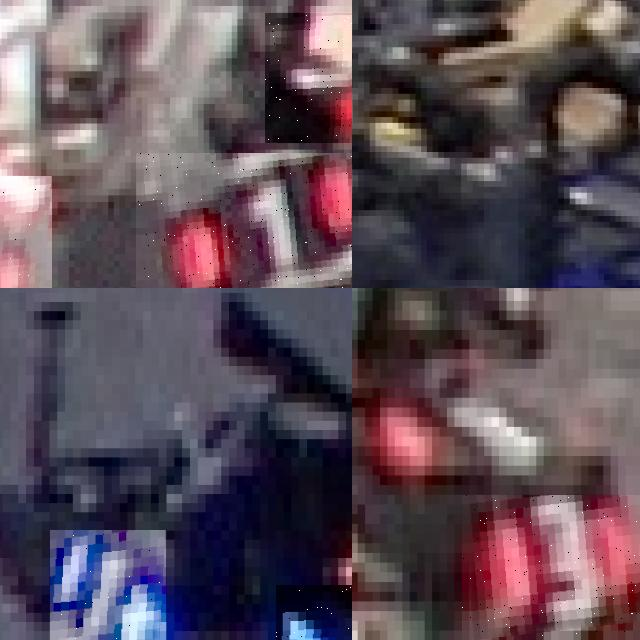B1: (49, 530, 166, 640)
R1: (136, 152, 352, 288), (265, 12, 352, 143), (0, 176, 52, 288)
R3: (461, 494, 640, 640)
